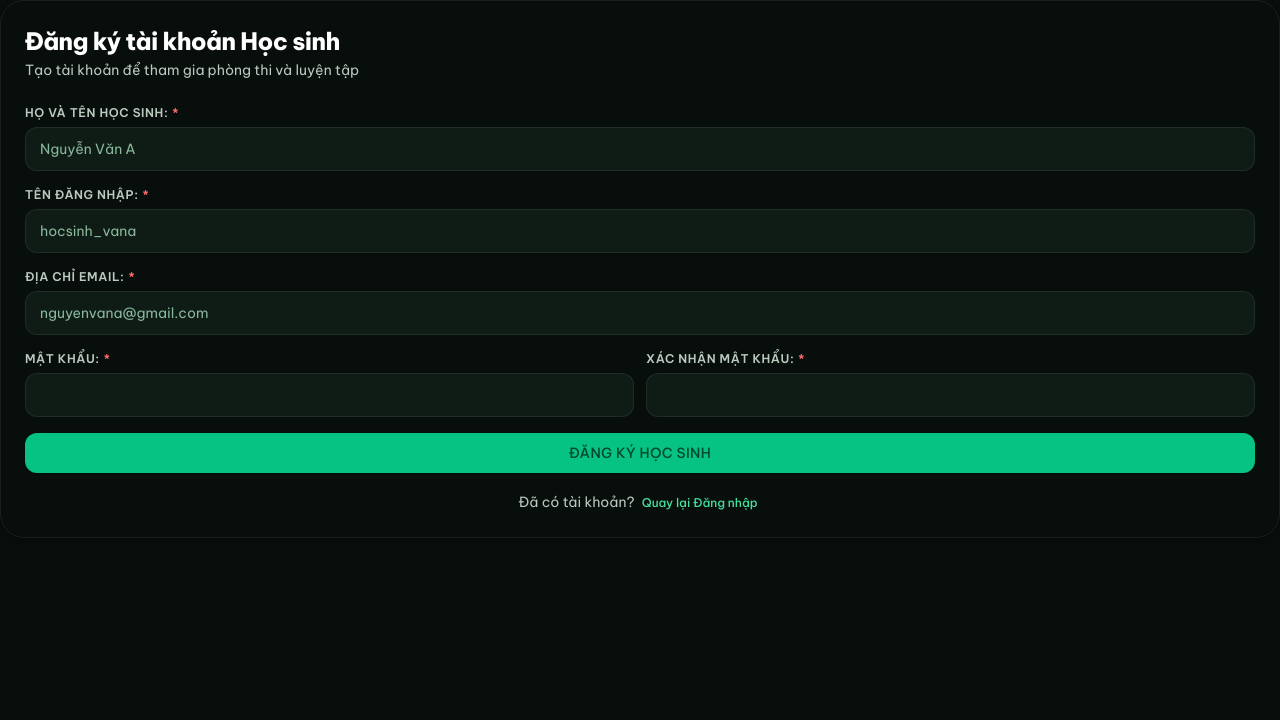
RegisterPage › shows validation errors when fields are empty
The image size is (1280, 720).
What coordinates should you click on to do the following:
click the button "Đăng ký học sinh"
I would click on:
 (640, 453)
Its box is [25,433,1255,473].
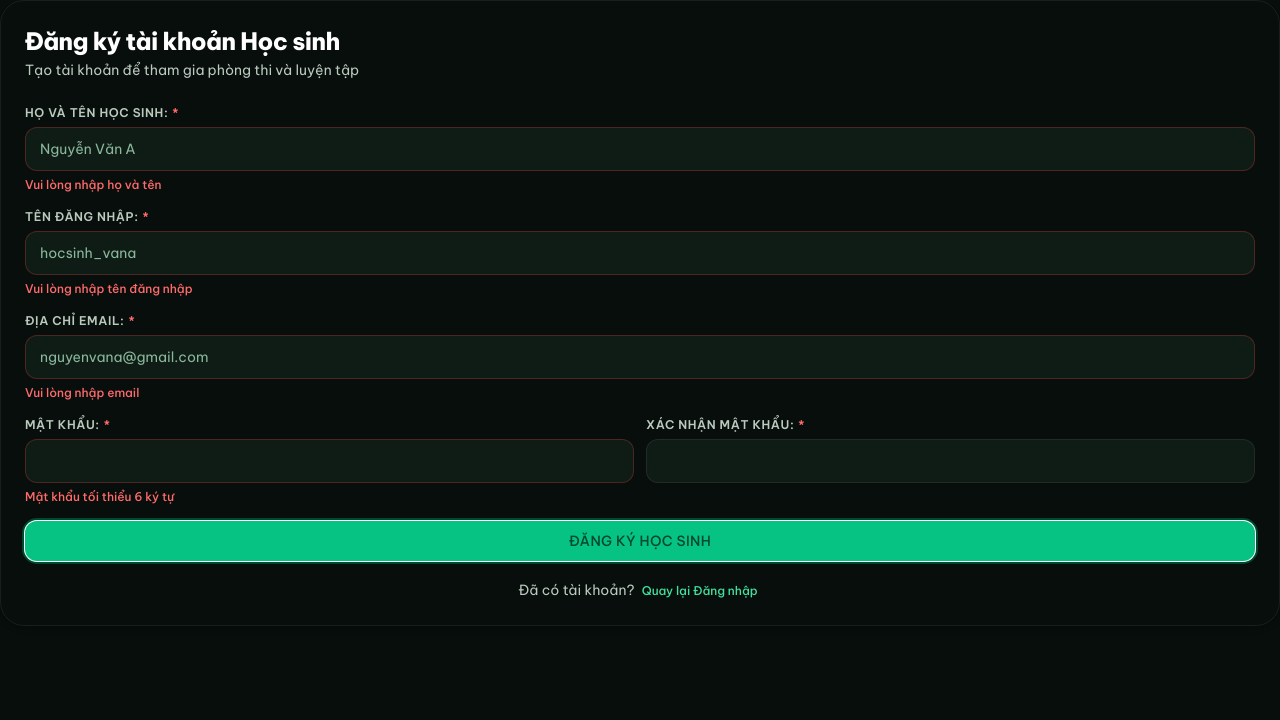
Expected: the text "Vui lòng nhập họ và tên" is shown, [25,177,162,192]
Expected: the text "Vui lòng nhập tên đăng nhập" is shown, [25,281,193,296]
Expected: the text "Vui lòng nhập email" is shown, [25,385,139,400]
